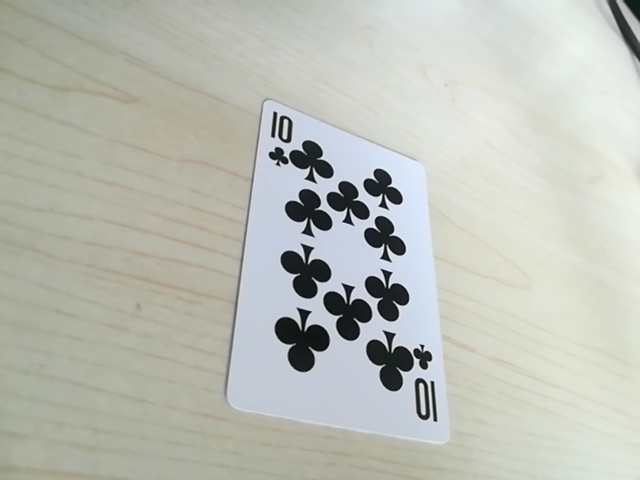mh 10: (260, 106, 311, 175), (405, 348, 442, 426)
